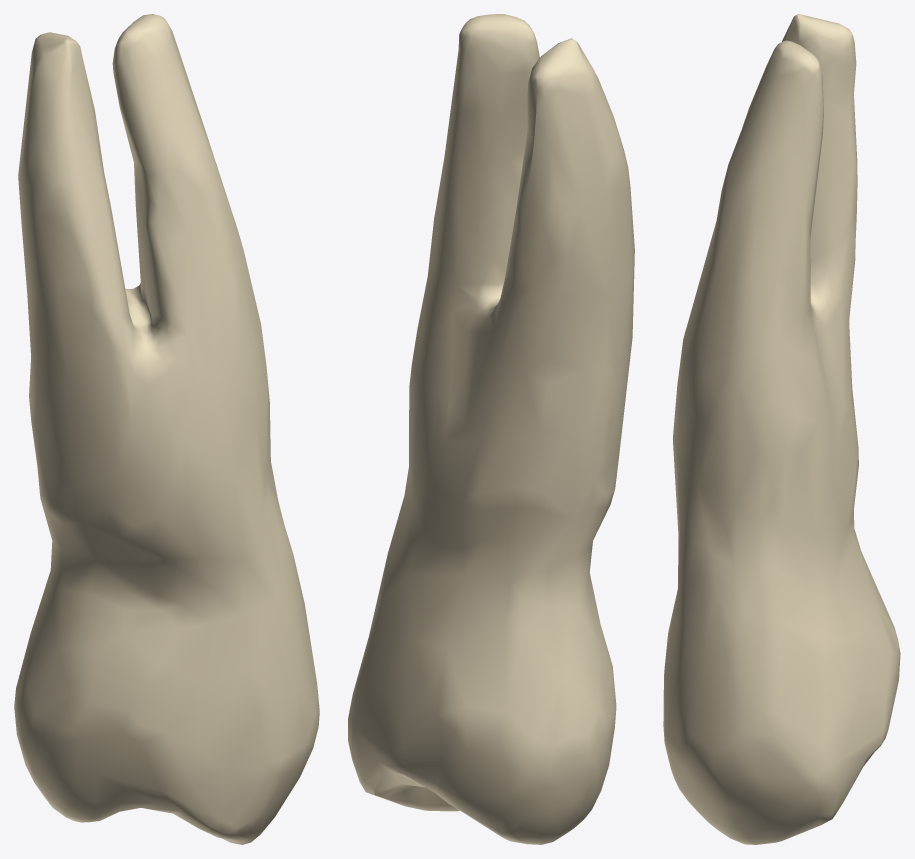
The model's file is tooth-24.glb.
3 views of the same model, side by side, from view 1: azimuth 30°, elevation 25°; view 2: azimuth 150°, elevation 25°; view 3: azimuth 270°, elevation 25° (orthographic). The views are drawn at different scales.
Parts seen in each view (by area): view 1: tooth-24; view 2: tooth-24; view 3: tooth-24.
Part boxes in pixels (x1,y1,x2,y2): tooth-24: (14, 14, 319, 844); tooth-24: (348, 14, 634, 844); tooth-24: (663, 14, 900, 844).
Bounding box in the file's own units: 0.2368 × 0.7112 × 0.2006.
